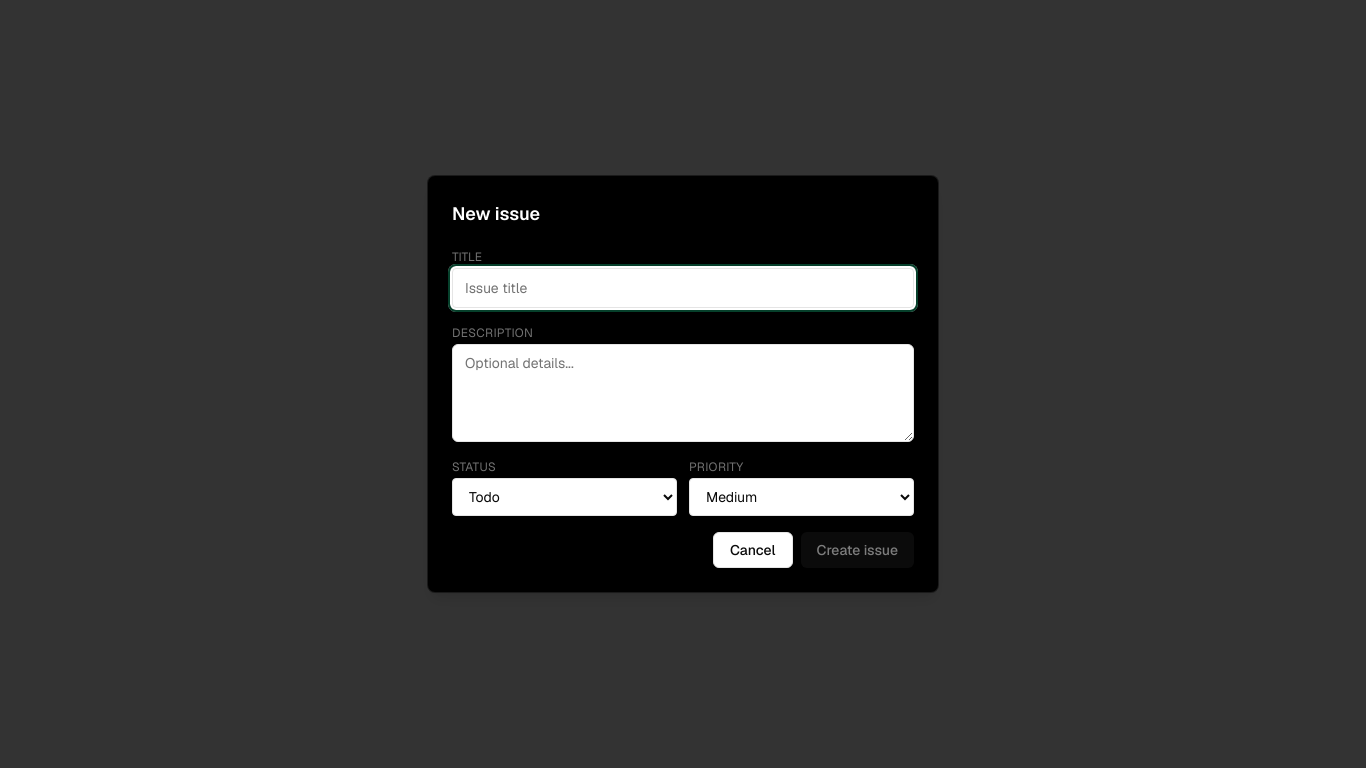
NewIssueDialog › Create enabled once title is non-empty
This screenshot has width=1366, height=768.
Type "Fix" into the field with placeholder "Issue title" at (683, 288), box [452, 268, 914, 308]
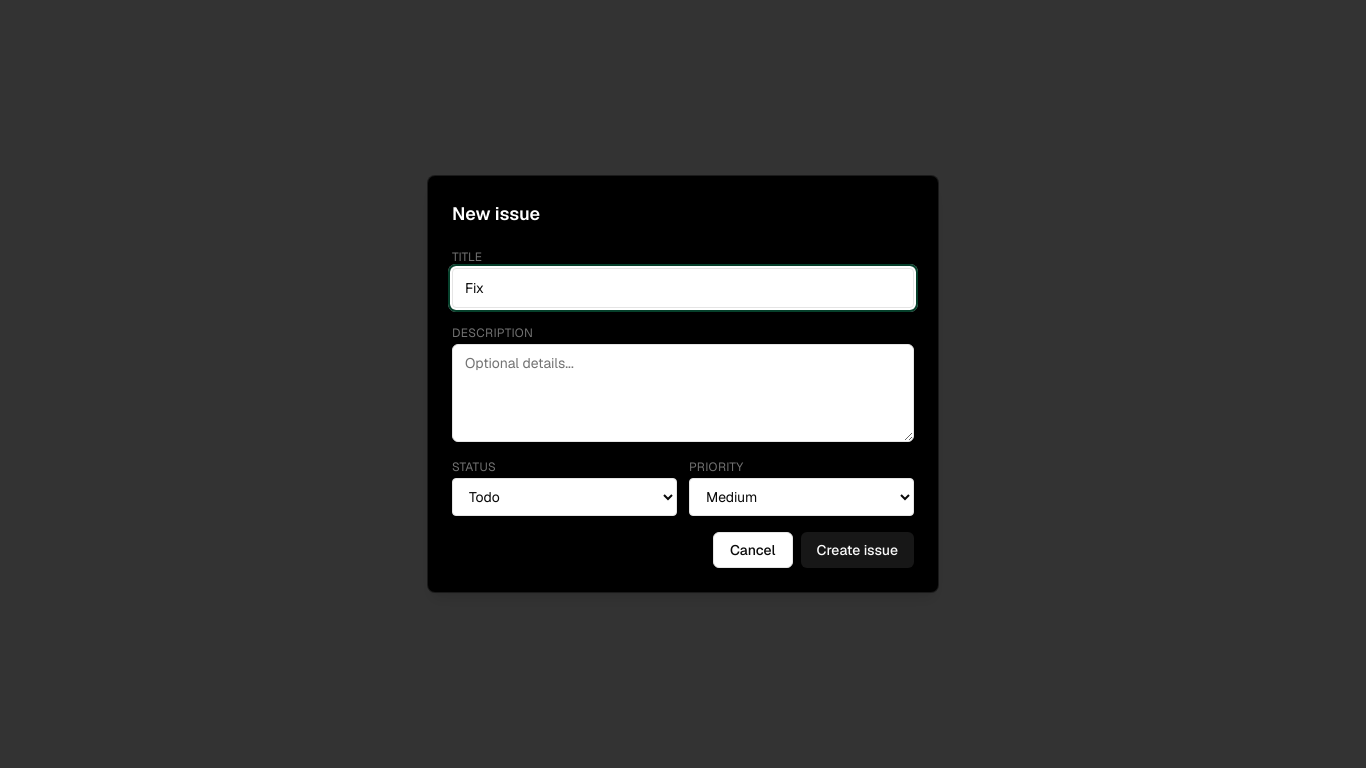
Result: the button "Create issue" is enabled at [800, 532, 914, 568]
